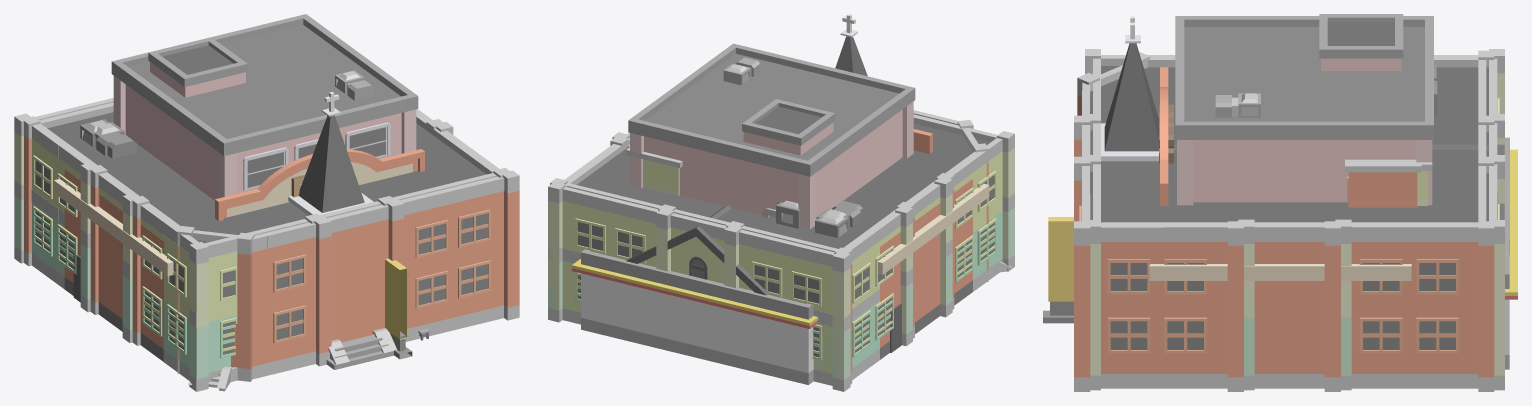
File: free_mini.glb
3 views of the same model, side by side, from view 1: azimuth 30°, elevation 25°; view 2: azimuth 150°, elevation 25°; view 3: azimuth 270°, elevation 25° (orthographic). The views are drawn at different scales.
Visible parts, largest first — view 1: _MeshInstance3D_2, _MeshInstance3D_55, _MeshInstance3D_5, _MeshInstance3D_61, _MeshInstance3D_3, _MeshInstance3D_8, _MeshInstance3D_64, _MeshInstance3D_13, _MeshInstance3D_28, _MeshInstance3D_30, _MeshInstance3D_9, _MeshInstance3D_100 (+22 smaller); view 2: _MeshInstance3D_64, _MeshInstance3D_18, _MeshInstance3D_55, _MeshInstance3D_88, _MeshInstance3D_13, _MeshInstance3D_61, _MeshInstance3D_19, _MeshInstance3D_3, _MeshInstance3D_11, _MeshInstance3D_17, _MeshInstance3D_28, _MeshInstance3D_5 (+20 smaller); view 3: _MeshInstance3D_2, _MeshInstance3D_5, _MeshInstance3D_55, _MeshInstance3D_3, _MeshInstance3D_64, _MeshInstance3D_61, _MeshInstance3D_8, _MeshInstance3D_11, _MeshInstance3D_13, _MeshInstance3D_4, _MeshInstance3D_9, _MeshInstance3D_19 (+13 smaller).
Boxes of the visible parts, x1,y1,x2,y2 form: _MeshInstance3D_2: [233, 191, 503, 367]; _MeshInstance3D_55: [129, 25, 400, 187]; _MeshInstance3D_5: [24, 102, 519, 391]; _MeshInstance3D_61: [111, 14, 418, 155]; _MeshInstance3D_3: [62, 112, 485, 234]; _MeshInstance3D_8: [24, 136, 519, 369]; _MeshInstance3D_64: [125, 62, 401, 200]; _MeshInstance3D_13: [14, 98, 509, 391]; _MeshInstance3D_28: [64, 149, 424, 348]; _MeshInstance3D_30: [54, 162, 412, 276]; _MeshInstance3D_9: [273, 209, 490, 343]; _MeshInstance3D_100: [299, 115, 364, 212]; _MeshInstance3D_64: [644, 109, 902, 219]; _MeshInstance3D_18: [562, 151, 1002, 373]; _MeshInstance3D_55: [644, 53, 898, 160]; _MeshInstance3D_88: [581, 273, 813, 373]; _MeshInstance3D_13: [548, 114, 1014, 391]; _MeshInstance3D_61: [628, 43, 915, 176]; _MeshInstance3D_19: [548, 148, 1014, 379]; _MeshInstance3D_3: [577, 126, 963, 248]; _MeshInstance3D_11: [577, 123, 990, 248]; _MeshInstance3D_17: [575, 170, 996, 354]; _MeshInstance3D_28: [880, 129, 972, 347]; _MeshInstance3D_5: [550, 110, 1011, 383]; _MeshInstance3D_2: [1101, 172, 1478, 373]; _MeshInstance3D_5: [1074, 50, 1494, 391]; _MeshInstance3D_55: [1184, 27, 1424, 121]; _MeshInstance3D_3: [1090, 67, 1478, 222]; _MeshInstance3D_64: [1193, 58, 1416, 202]; _MeshInstance3D_61: [1175, 14, 1433, 139]; _MeshInstance3D_8: [1074, 95, 1494, 377]; _MeshInstance3D_11: [1101, 66, 1488, 222]; _MeshInstance3D_13: [1085, 49, 1504, 390]; _MeshInstance3D_4: [1110, 263, 1455, 349]; _MeshInstance3D_9: [1079, 176, 1458, 353]; _MeshInstance3D_19: [1085, 73, 1504, 375].
Bounding box in the file's own units: 1.59 × 1.16 × 1.76.
